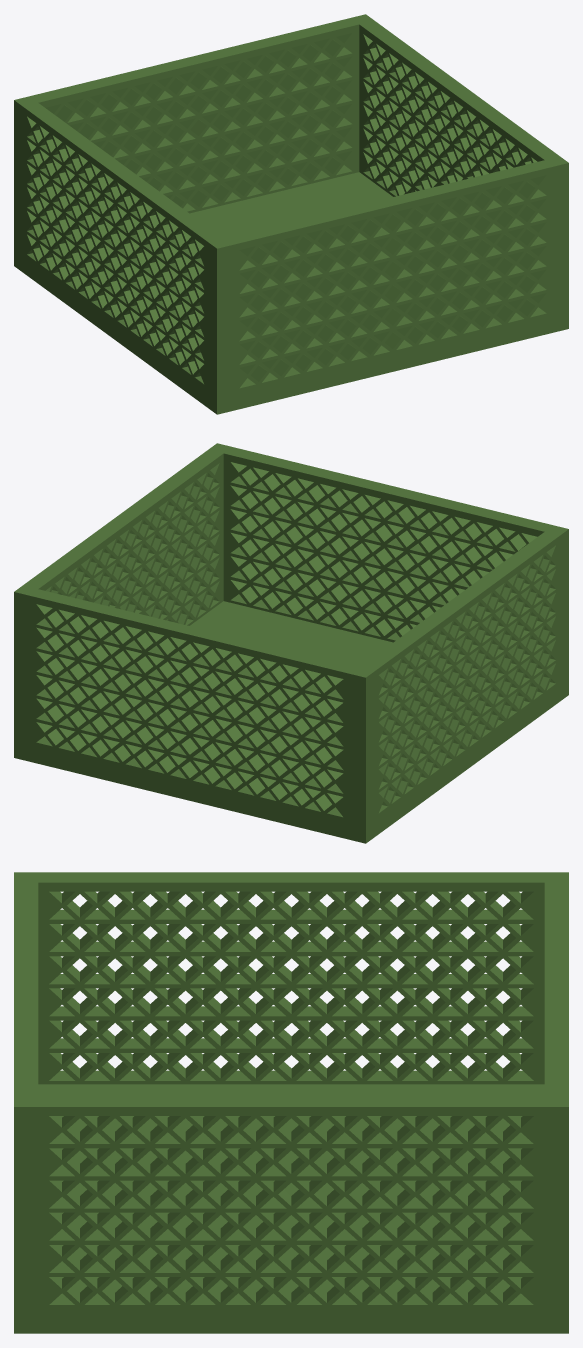
Rendered from shuttleCrate.fbx.
The picture shows the model from 3 angles, top to bottom: view 1: azimuth 30°, elevation 25°; view 2: azimuth 150°, elevation 25°; view 3: azimuth 270°, elevation 25°; orthographic projection. The views are drawn at different scales.
Parts seen in each view (by area): view 1: shuttleCrate; view 2: shuttleCrate; view 3: shuttleCrate.
Part boxes in pixels (x1,y1,x2,y2): shuttleCrate: [14, 14, 568, 414]; shuttleCrate: [14, 443, 568, 843]; shuttleCrate: [14, 872, 568, 1333].
Size of the model in its own units: 63.46 by 28.61 by 63.46.
